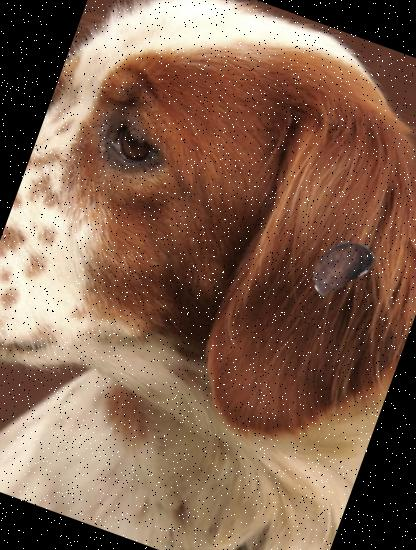Chestnut: (297, 221, 384, 308)
